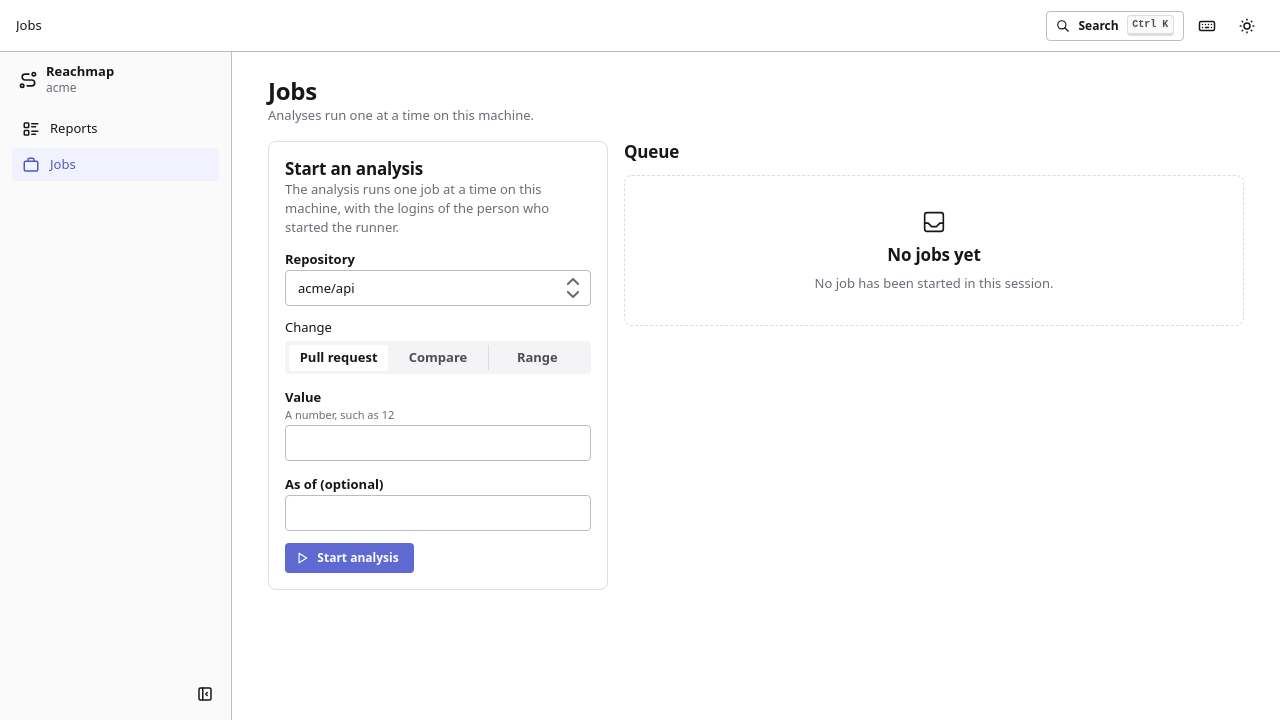
Test case: the frame › opens the list of shortcuts with the question mark, and not while a field has the focus
Click the field labelled "Value": [438, 443] box left=285, top=425, right=591, bottom=461
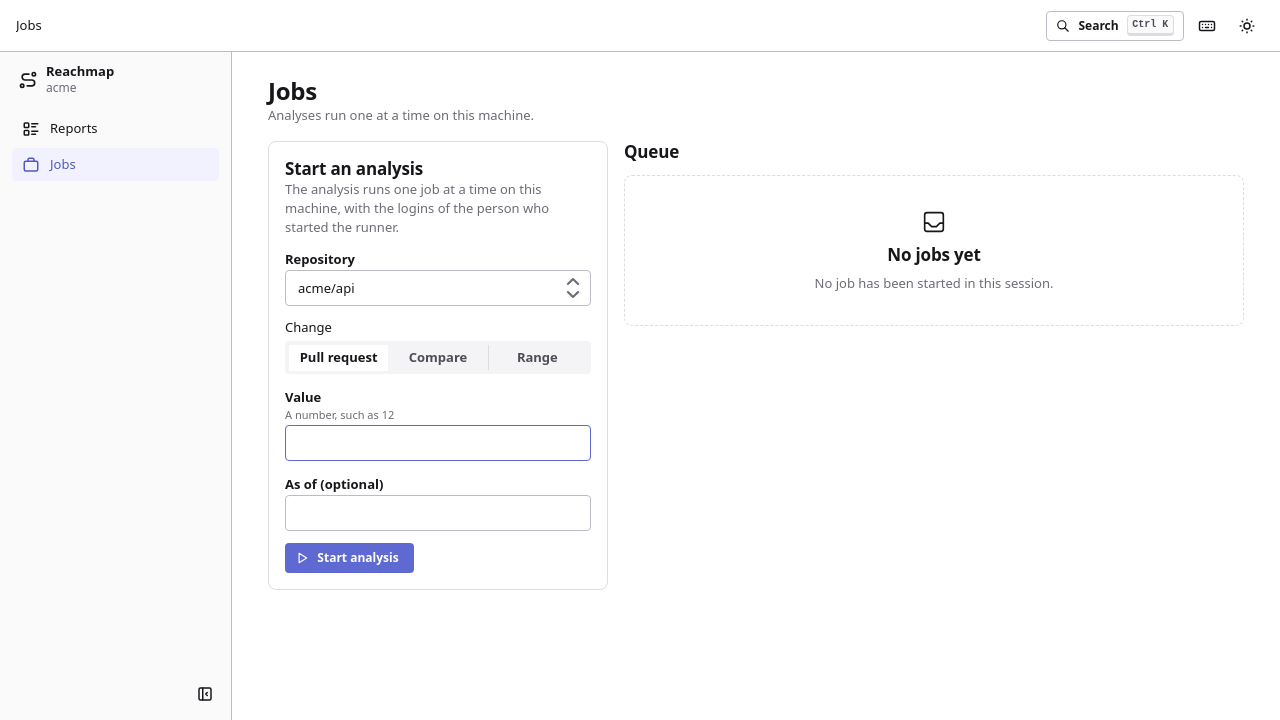
Type keys "?"
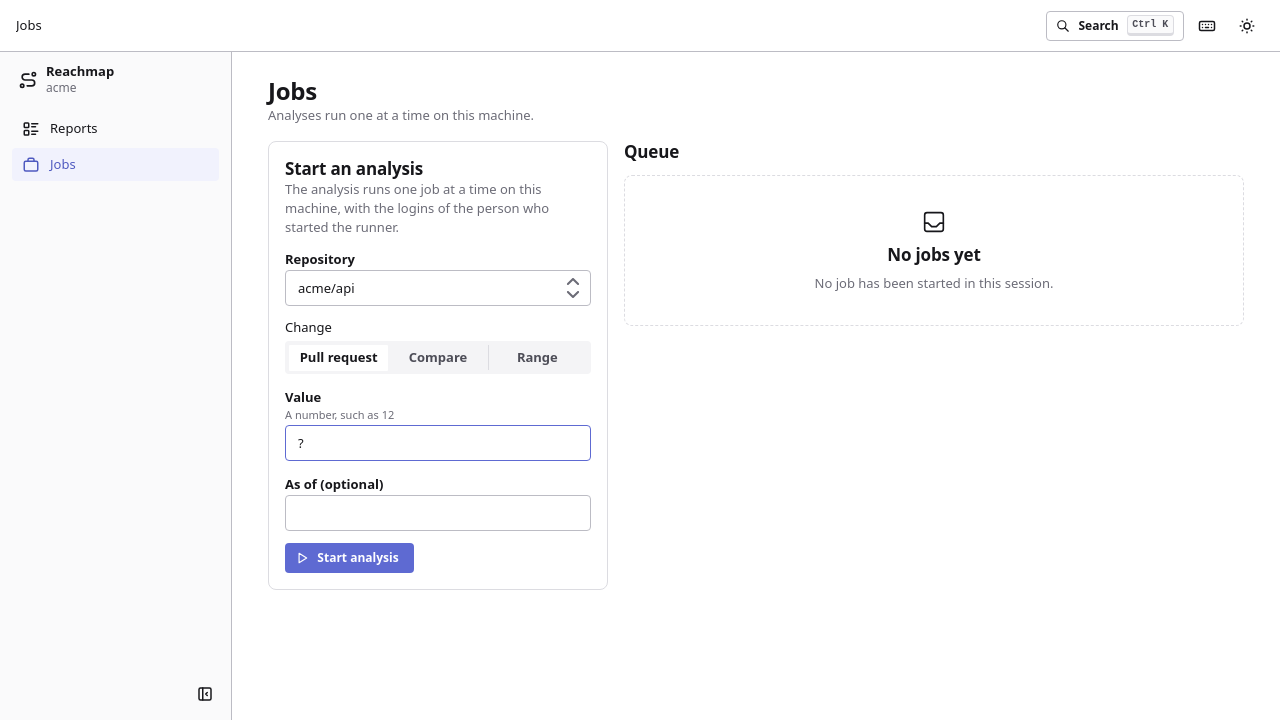
Expected: the dialog "Keyboard shortcuts" is not shown
Expected: the field labelled "Value" holds "?", left=285, top=425, right=591, bottom=461
Click the element that starts with "Skip to the main content": [640, 360] box left=0, top=0, right=1279, bottom=719
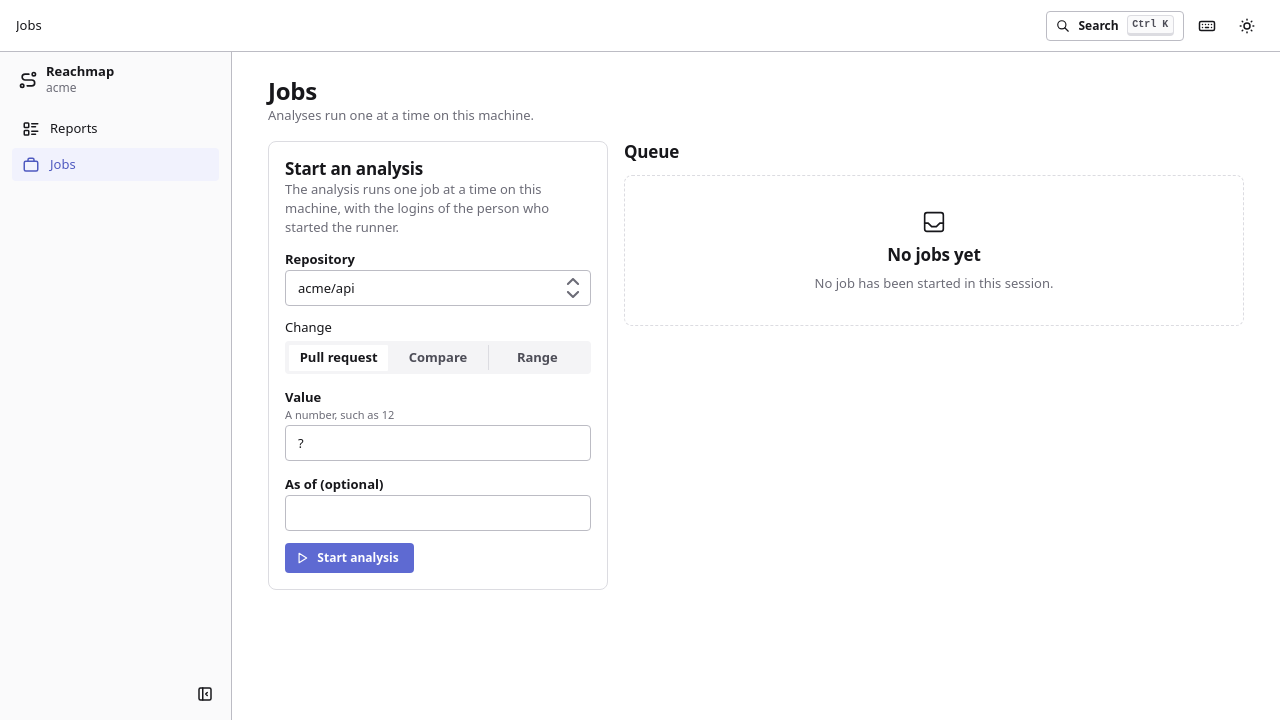
Type keys "?"
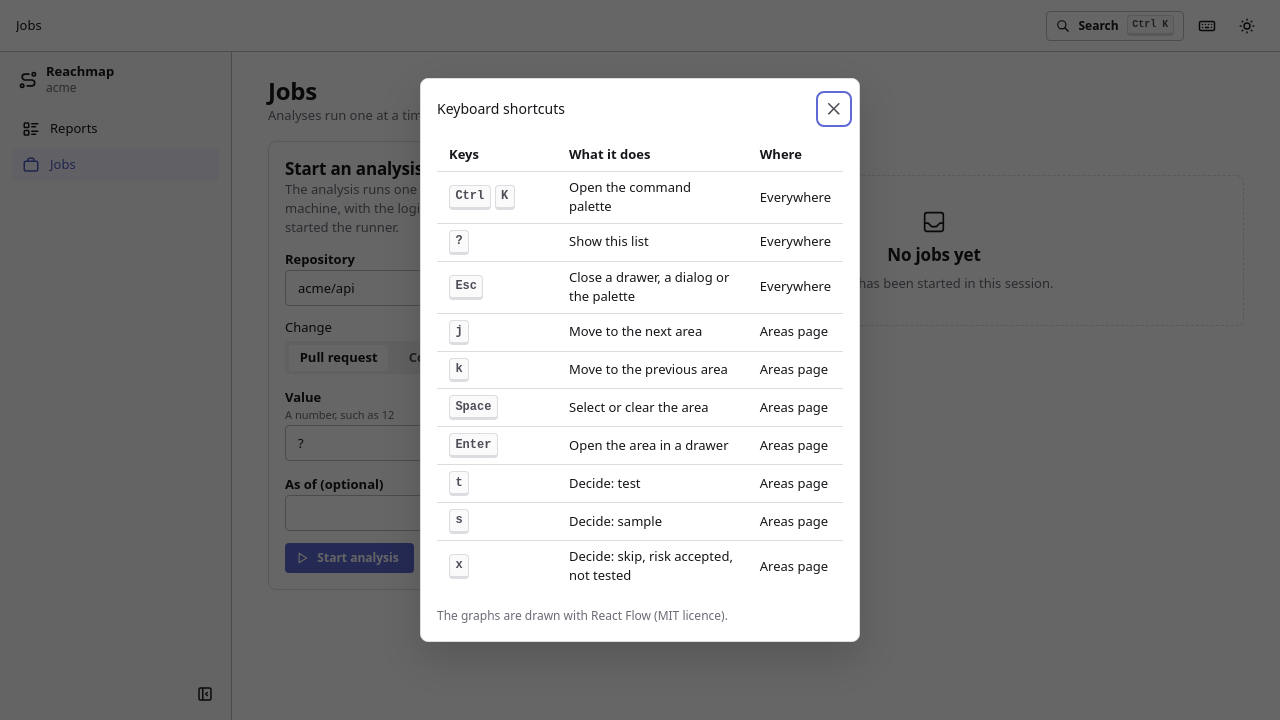
Result: the text "j" is shown at left=449, top=320, right=469, bottom=345
Result: the text "k" is shown at left=449, top=358, right=469, bottom=382
Result: the text "t" is shown at left=449, top=471, right=469, bottom=496
